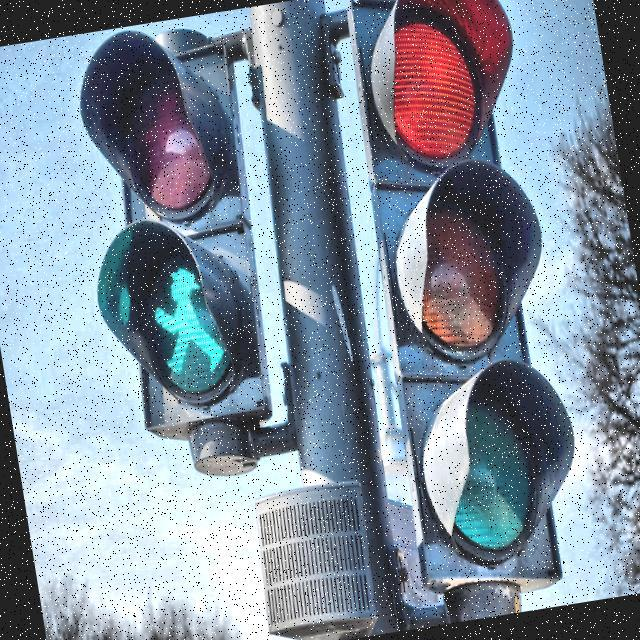green_light: (144, 259, 230, 385)
